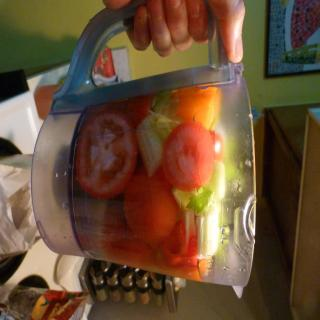tomato: (76, 111, 138, 200), (120, 172, 182, 248), (162, 119, 217, 192)
